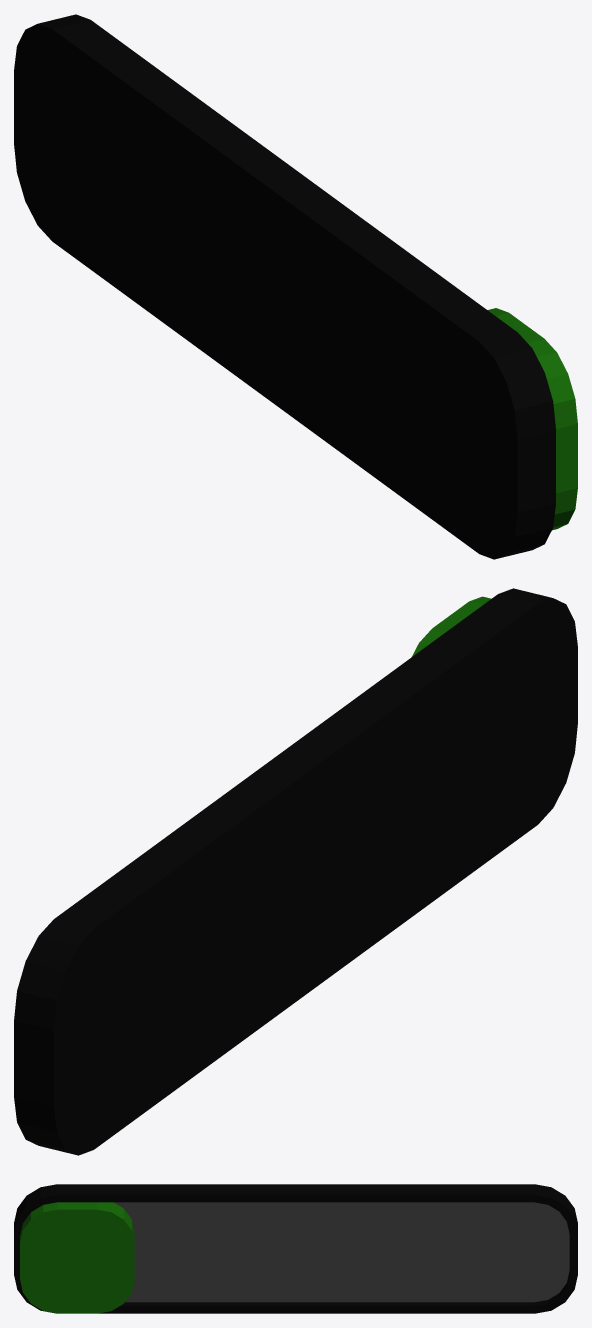
File: Slider Bar.fbx
The picture shows the model from 3 angles, top to bottom: view 1: azimuth 30°, elevation 25°; view 2: azimuth 150°, elevation 25°; view 3: azimuth 270°, elevation 25°; orthographic projection. The views are drawn at different scales.
Visible parts, largest first — view 1: Cube.001, Cube; view 2: Cube.001, Cube; view 3: Cube.001, Cube.
Part boxes in pixels (left/top/right/bottom): Cube.001: left=14, top=14, right=555, bottom=559; Cube: left=487, top=308, right=577, bottom=530; Cube.001: left=14, top=588, right=577, bottom=1155; Cube: left=412, top=596, right=491, bottom=656; Cube.001: left=14, top=1184, right=577, bottom=1313; Cube: left=20, top=1202, right=134, bottom=1313.
Bounding box in the file's own units: 64.73 × 200 × 860.
